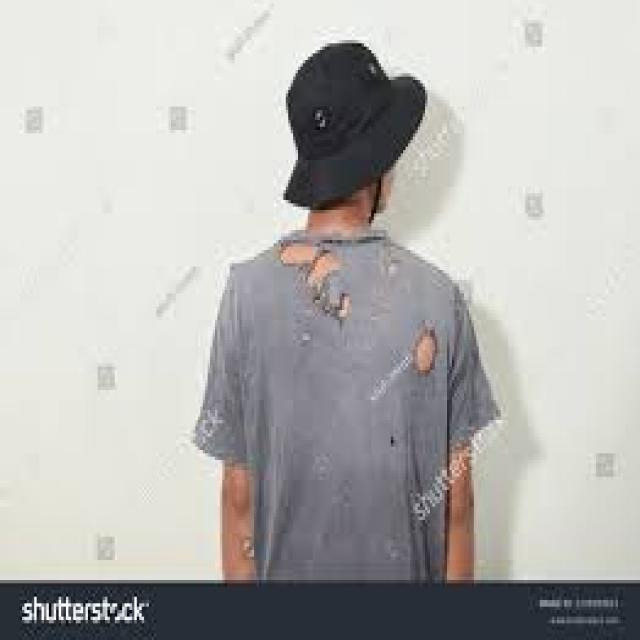Clothes -Biodegradable-: (194, 228, 500, 596), (281, 45, 423, 206)
